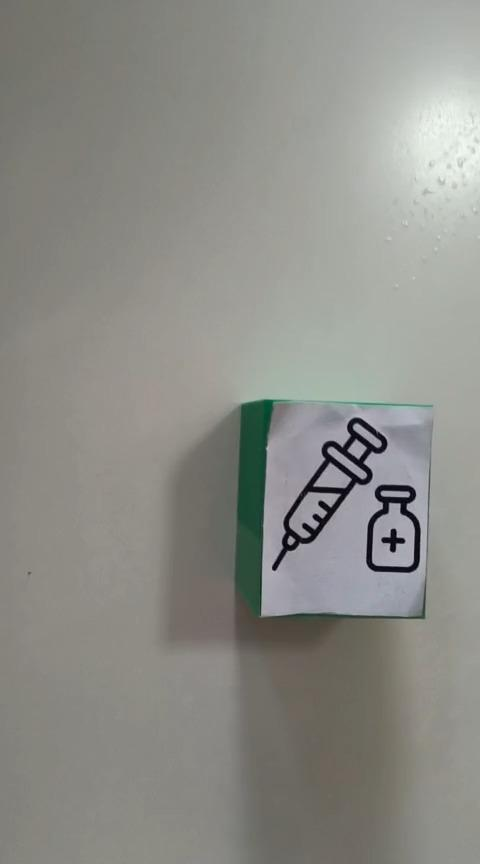antiseptic cream: (233, 397, 435, 619)
